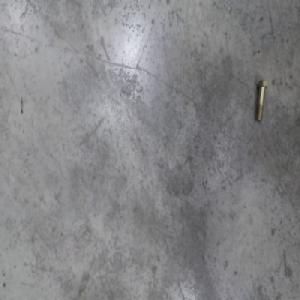Bolt: (252, 78, 266, 122)
